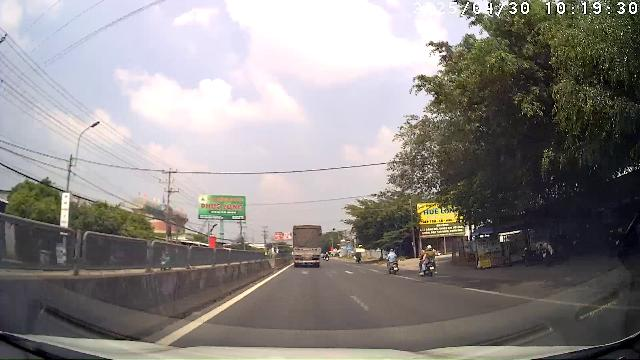423a-duong-nguoi-di-bo-sang-ngang-1: (346, 246, 352, 250)
